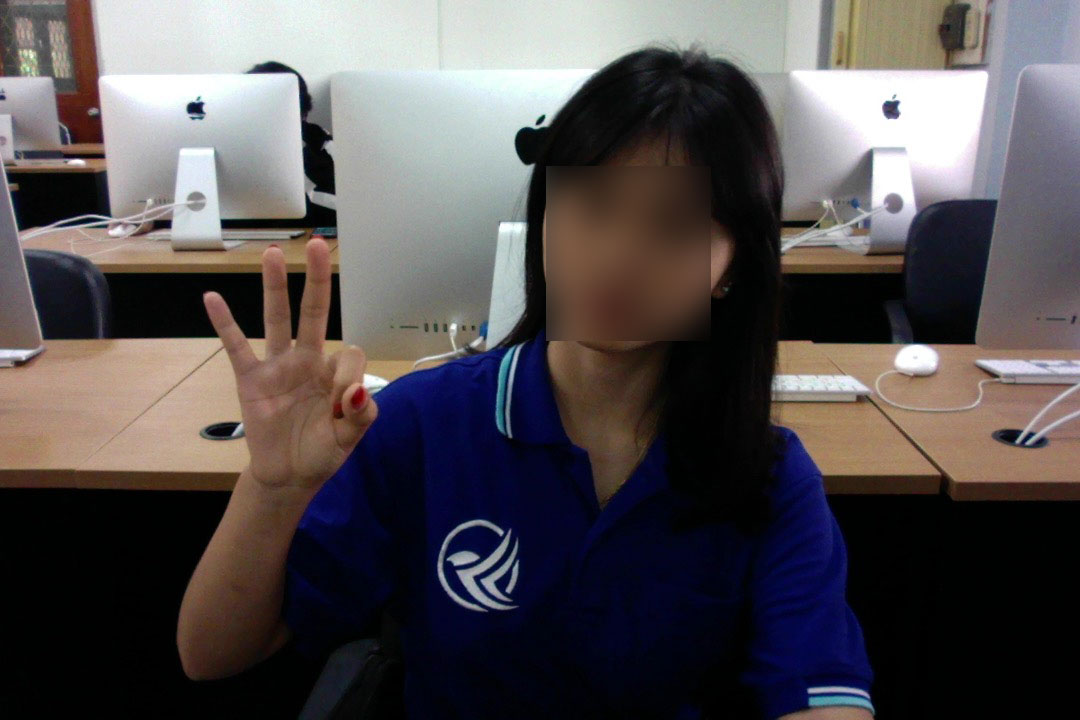for: (181, 220, 403, 543)
